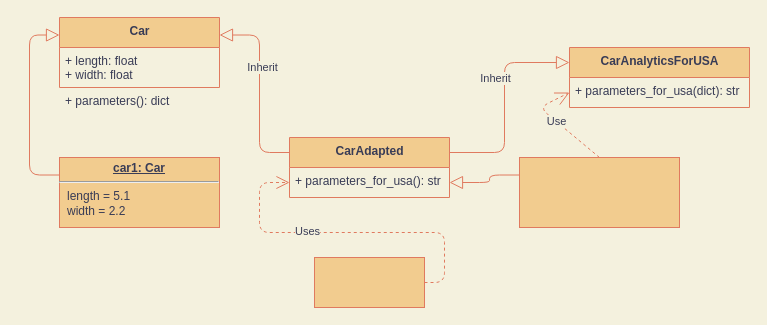
The diagram is 767 pixels wide and 325 high, and some of its shapes have lost their labels. Here are the shapes that lost their labels. From the top down, the centre of each, then its label:
At point (599, 192): "сar2: CarAdapted length = 5.1 width = 2.2".
At point (369, 282): "Client".
